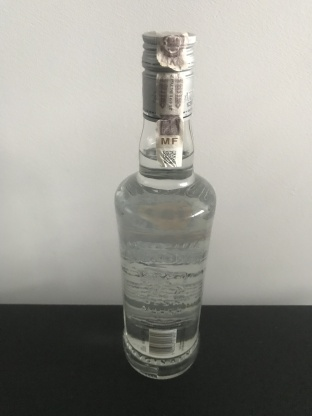nakretka: (140, 27, 196, 123)
